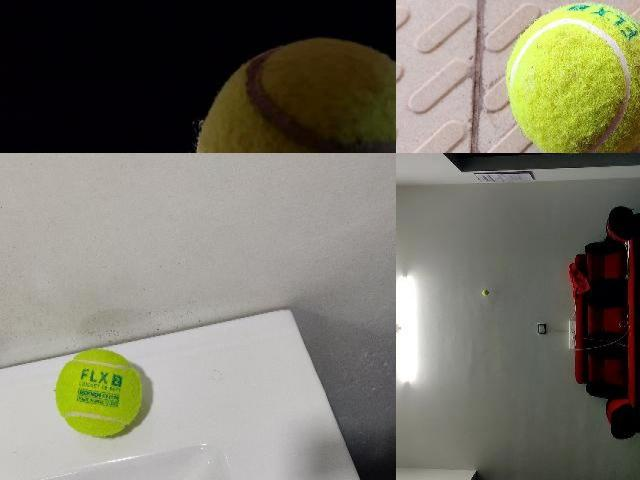tennis-ball: (193, 34, 395, 152), (506, 3, 639, 152), (55, 348, 143, 437), (482, 289, 488, 297)
